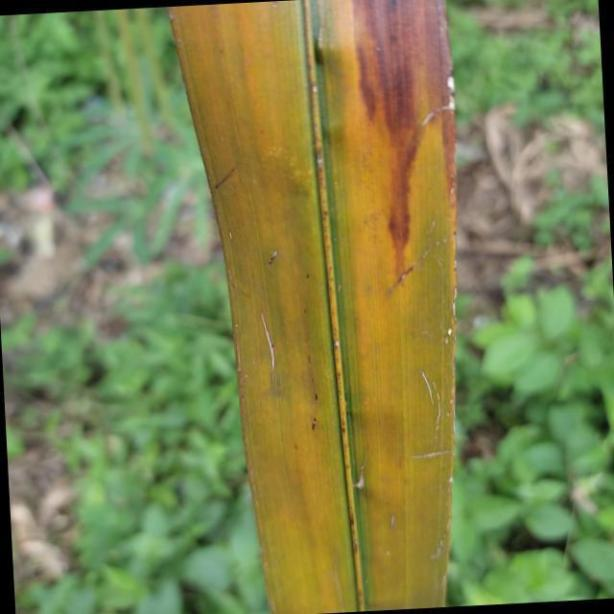Megnesium: (174, 0, 460, 614)
